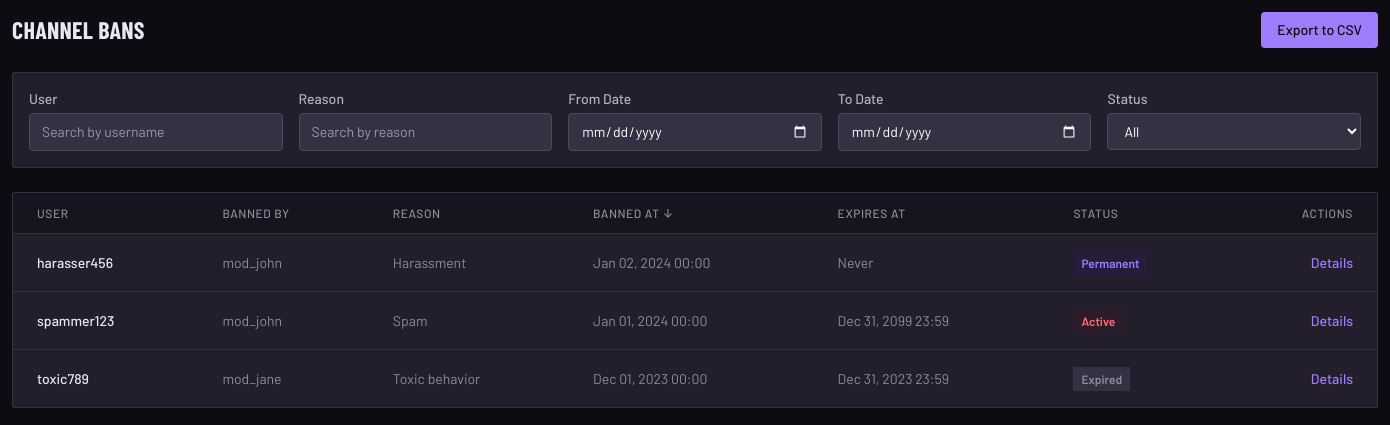
Test case: BanListViewer › Filtering › filters bans by username
Expected: the text "spammer123" is shown, [13,292,198,350]
Type "spammer" into the field labelled "User" at (156, 132), box [29,113,283,151]
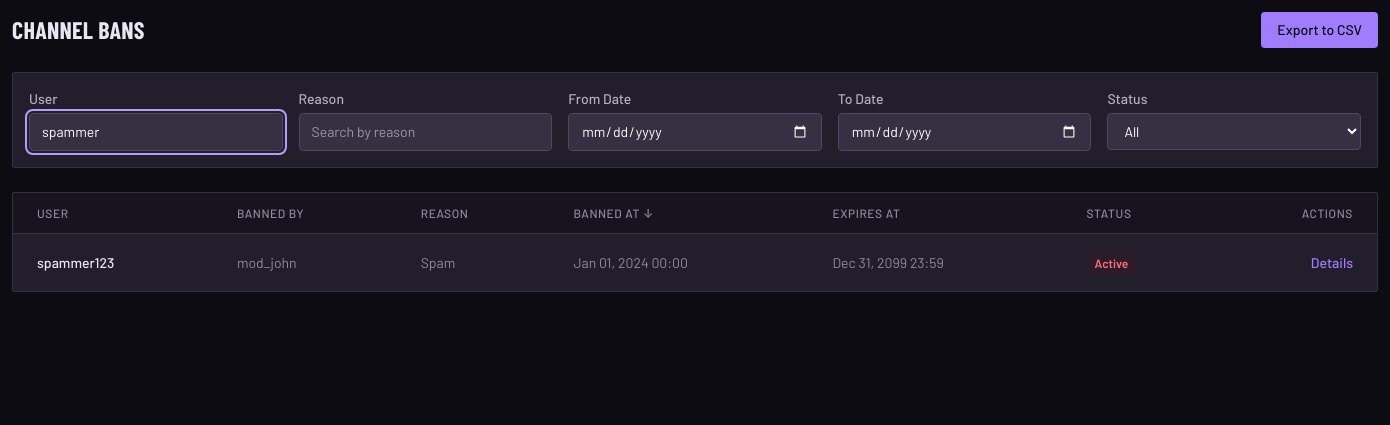
Expected: the text "spammer123" is shown, [13,234,213,291]
Now the text "harasser456" is gone
